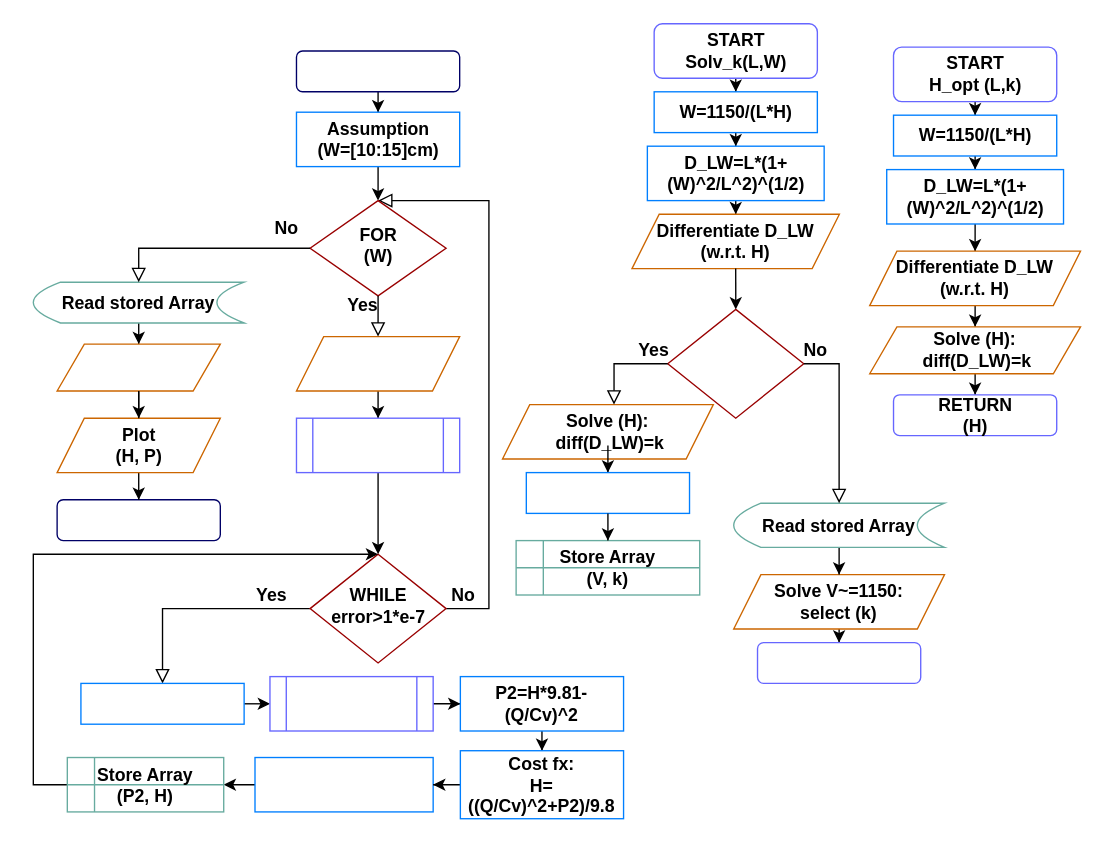
Some shapes in this 1104 by 843 pixel diagram are drawn without their labels. The centre of each missing label's shape, as x and y in pixels:
"END" goes at pixel 138 519.
"error=abs(P2new-P2old)" goes at pixel 343 784.
"FOR (k=[0.1:1])" goes at pixel 735 363.
"fx CALL: H_opt (L,k)" goes at pixel 351 703.
"fx CALL: Solv_k(L,W)" goes at pixel 377 445.
"Initialize (P2, H)" goes at pixel 377 363.
"L=V/(H*W)" goes at pixel 162 703.
"RETURN (k)" goes at pixel 838 662.
"START" goes at pixel 377 71.
"V=H*L*W" goes at pixel 607 492.
"Write Table (H, P)" goes at pixel 138 367.
